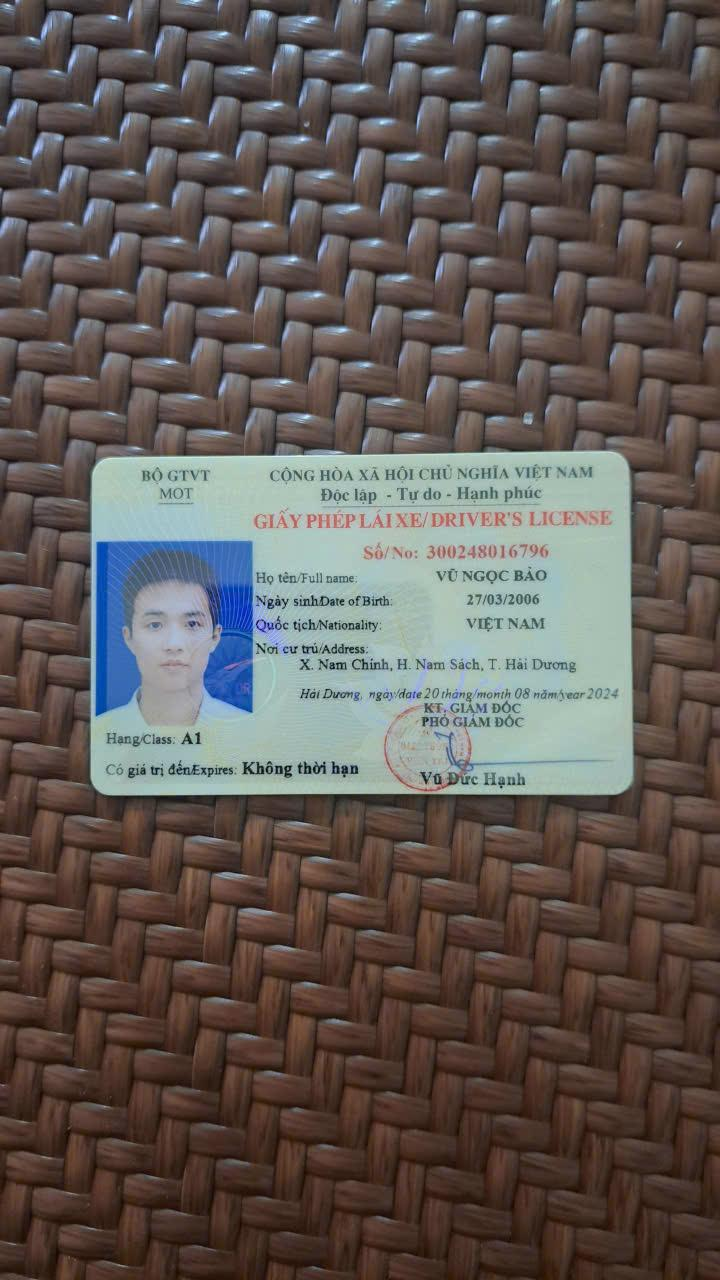gplx: (84, 447, 638, 800)
